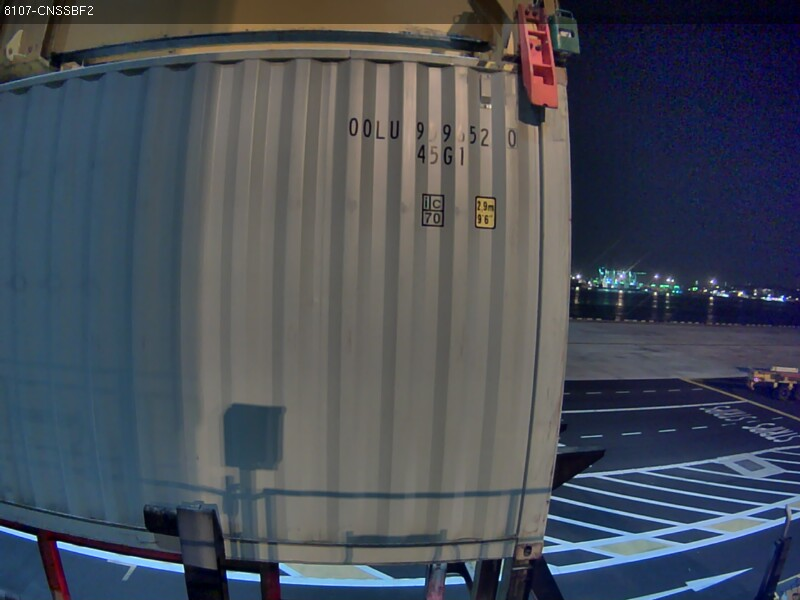container_no_door: (135, 54, 492, 471)
